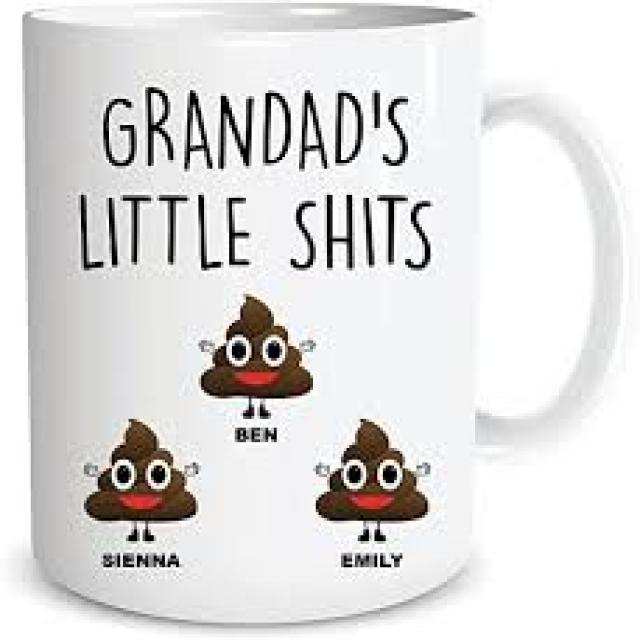taza: (14, 6, 628, 618)
